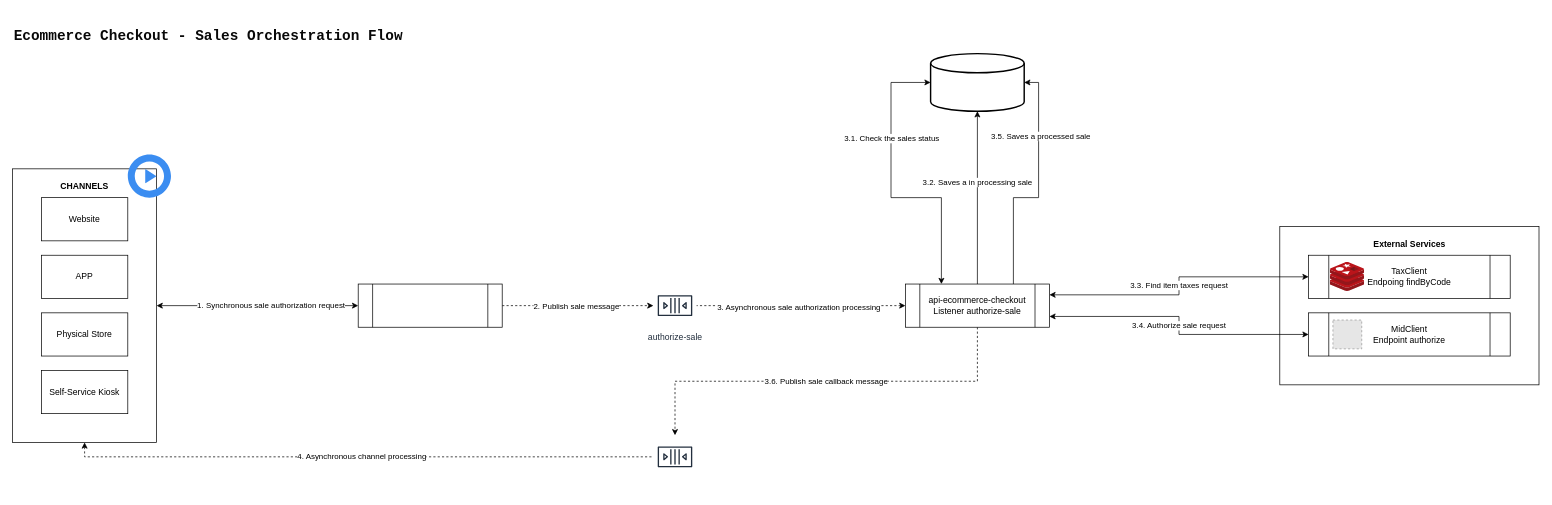
This 1552x505 diagram has some shape labels left out. Grey dashed boxes stand in for pictures. Here are the shapes that lost their labels. From the top down, the centre of each, then its label:
At pixel 977 82: "SALE_ORDER".
At pixel 429 305: "api-ecommerce-checkout Endpoint authorize-sale".
At pixel 675 456: "sale-callback".
